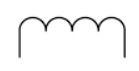inductor: (14, 14, 126, 59)
